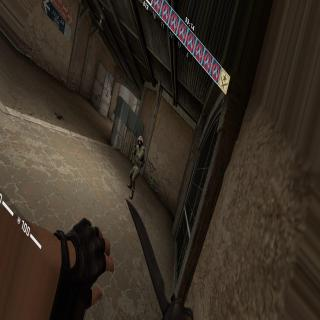CT-Body: (125, 128, 150, 208)
CT-Head: (137, 136, 143, 147)
